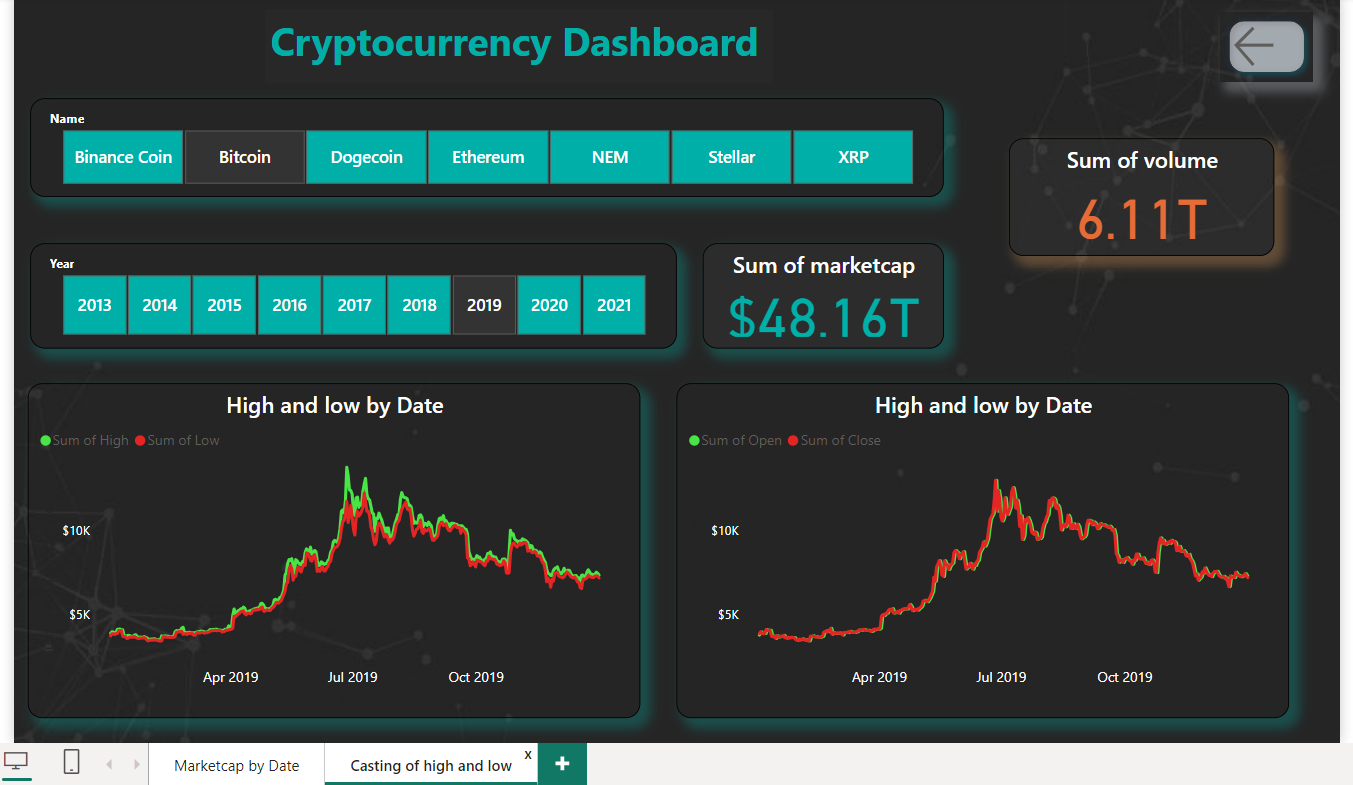

The page's visual inventory and layout, read from the dashboard file:
{"tool":"powerbi","page":{"name":"Casting of high and low","canvas":[1280,720],"ordinal":1},"visuals":[{"type":"slicer","fields":{"Values":["cleaned_cryptocurrency_data.Name"]},"box":[15.7,97.7,881.9,95.3],"z":0},{"type":"slicer","fields":{"Values":["cleaned_cryptocurrency_data.Year"]},"box":[15.7,237.7,623.7,101.3],"z":1000},{"type":"lineChart","title":"High and low by Date","fields":{"Category":["cleaned_cryptocurrency_data.Date"],"Y":["Sum(cleaned_cryptocurrency_data.High)","Sum(cleaned_cryptocurrency_data.Low)"]},"box":[13.3,372.8,591.2,323.3],"z":2000},{"type":"card","title":"Sum of volume","fields":{"Values":["Sum(cleaned_cryptocurrency_data.Volume)"]},"box":[960.3,136.3,255.8,113.4],"z":3000},{"type":"card","title":"Sum of marketcap","fields":{"Values":["Sum(cleaned_cryptocurrency_data.Marketcap)"]},"box":[664.7,237.7,232.8,101.3],"z":4000},{"type":"textbox","box":[242.5,12.1,489.8,71.2],"z":5000},{"type":"actionButton","box":[1164.5,14.3,89.8,67],"z":6000},{"type":"lineChart","title":"High and low by Date","fields":{"Category":["cleaned_cryptocurrency_data.Date"],"Y":["Sum(cleaned_cryptocurrency_data.Open)","Sum(cleaned_cryptocurrency_data.Close)"]},"box":[639.4,372.8,591.2,323.3],"z":7000}]}

Visuals, with their boxes on the page's 1280x720 design canvas (x1, y1, x2, y2). These are canvas units, not pixel positions in the 1353x785 screenshot, which may show the page scaled, cropped or inside an application window:
slicer - cleaned_cryptocurrency_data.Name: bbox=(16, 98, 898, 193)
slicer - cleaned_cryptocurrency_data.Year: bbox=(16, 238, 639, 339)
"High and low by Date" lineChart: bbox=(13, 373, 604, 696)
"Sum of volume" card: bbox=(960, 136, 1216, 250)
"Sum of marketcap" card: bbox=(665, 238, 898, 339)
textbox: bbox=(242, 12, 732, 83)
actionButton: bbox=(1164, 14, 1254, 81)
"High and low by Date" lineChart: bbox=(639, 373, 1231, 696)
